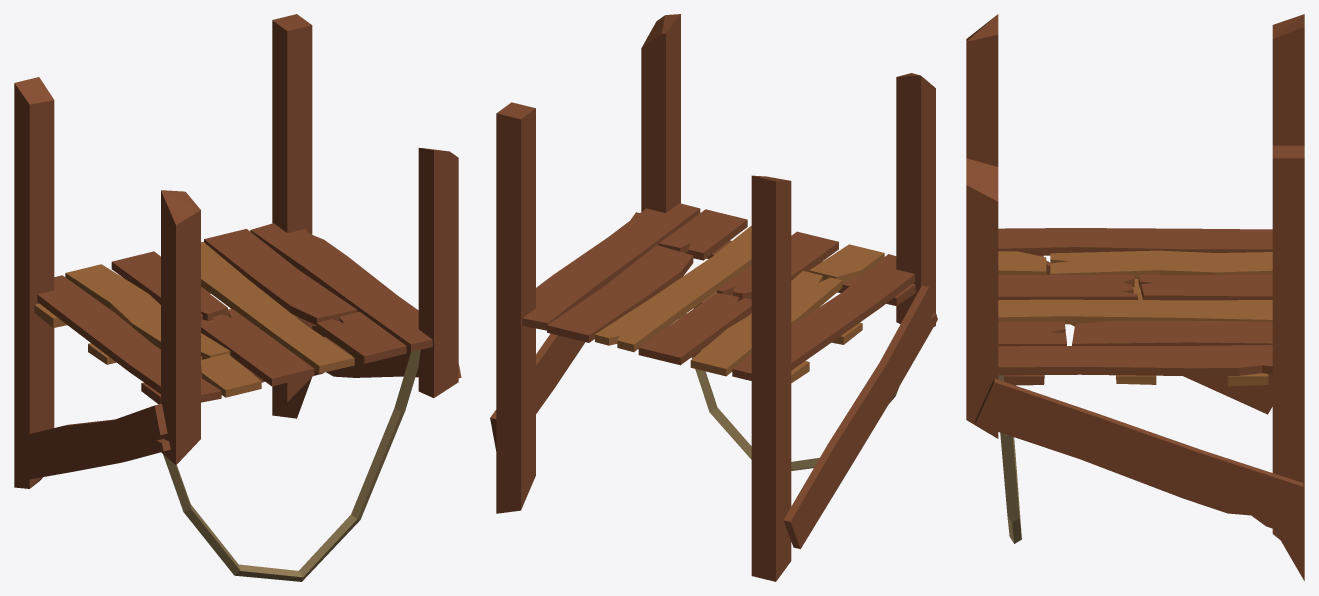
File: LP_PostApoc_SideMountedWoodenPlatform.fbx
3 views of the same model, side by side, from view 1: azimuth 30°, elevation 25°; view 2: azimuth 150°, elevation 25°; view 3: azimuth 270°, elevation 25° (orthographic). The views are drawn at different scales.
Visible parts, largest first — view 1: SideMountedWoodenPlatform; view 2: SideMountedWoodenPlatform; view 3: SideMountedWoodenPlatform.
Part boxes in pixels (bbox=[...]): SideMountedWoodenPlatform: bbox=[14, 14, 461, 581]; SideMountedWoodenPlatform: bbox=[490, 14, 937, 581]; SideMountedWoodenPlatform: bbox=[966, 14, 1304, 580].
Size of the model in its own units: 214 by 299 by 202.
